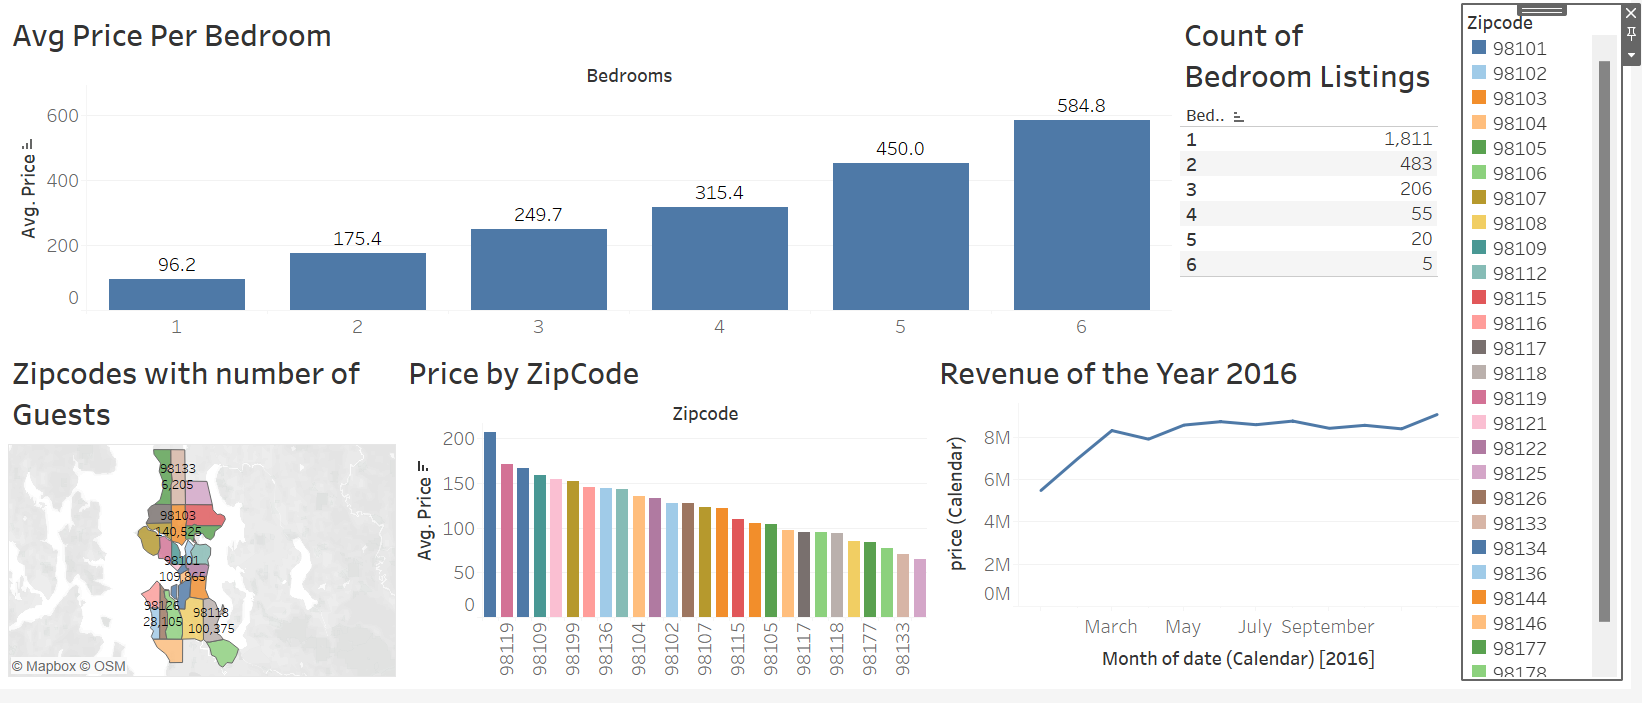

The page's visual inventory and layout, read from the dashboard file:
{"tool":"tableau","page":{"name":"Dashboard 1","canvas":[1000,1000],"units":"permille","ordinal":0},"visuals":[{"type":"worksheet","title":"Sheet 4","mark":"Automatic","rows":["price"],"cols":["bedrooms"],"box":[4.9,11.6,717.1,488.4]},{"type":"worksheet","title":"Sheet 5","mark":"Automatic","rows":["bedrooms"],"box":[722,11.6,175.3,488.4]},{"type":"legend","title":"Sheet 1","param":"[federated.09jtdx91e5qtpv10cva8a07o2b8w].[none:zipcode:ok]","box":[897.2,11.6,97.9,976.9]},{"type":"worksheet","title":"Sheet 2","mark":"Multipolygon","box":[4.9,500,242.2,488.4]},{"type":"worksheet","title":"Sheet 1","mark":"Automatic","rows":["price"],"cols":["zipcode"],"box":[247.1,500,325.1,488.4]},{"type":"worksheet","title":"Sheet 3","mark":"Automatic","rows":["price (Calendar)"],"cols":["date (Calendar)"],"box":[572.2,500,325.1,488.4]}]}

Visuals, with their boxes on the dashboard's canvas, which has no fixed pixel size, in thousandths of its width and height (x1, y1, x2, y2). These are canvas units, not pixel positions in the 1642x703 screenshot, which may show the page scaled, cropped or inside an application window:
"Sheet 4" worksheet: 5,12,722,500
"Sheet 5" worksheet: 722,12,897,500
"Sheet 1" legend: 897,12,995,988
"Sheet 2" worksheet (Multipolygon marks): 5,500,247,988
"Sheet 1" worksheet: 247,500,572,988
"Sheet 3" worksheet: 572,500,897,988
